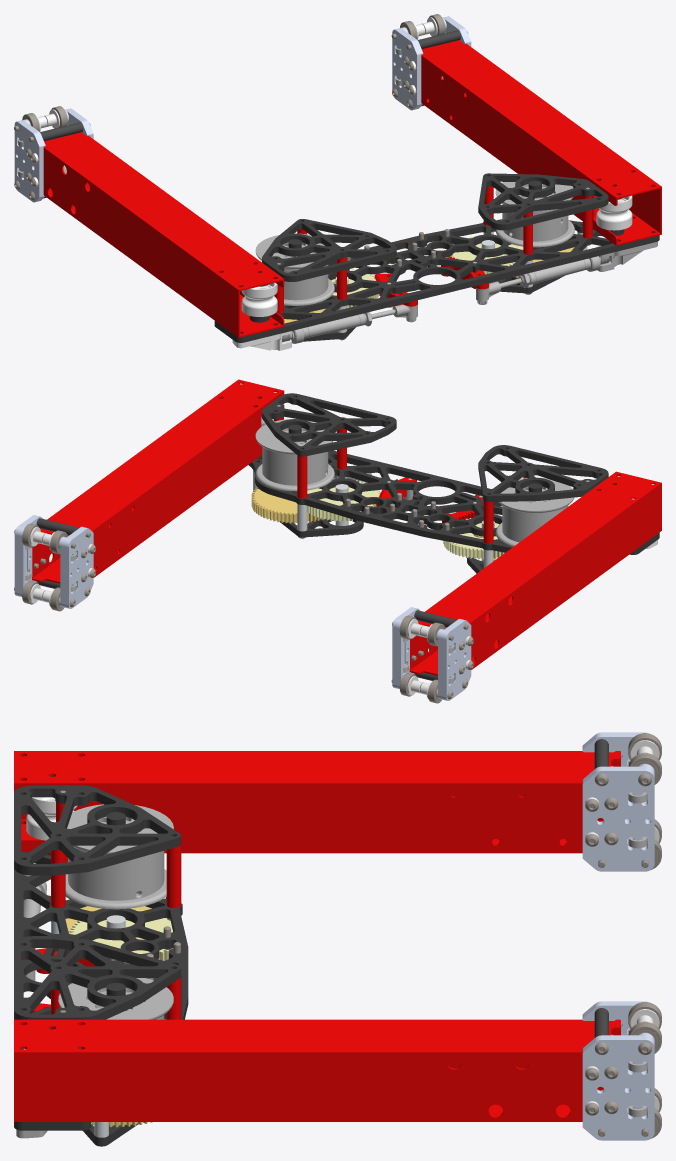
File: Snapback_Climber_Bottom_Stage.glb
The picture shows the model from 3 angles, top to bottom: view 1: azimuth 30°, elevation 25°; view 2: azimuth 150°, elevation 25°; view 3: azimuth 270°, elevation 25°; orthographic projection. The views are drawn at different scales.
Visible parts, largest first — view 1: NAUO82, NAUO98, NAUO8, NAUO26, NAUO25, NAUO88, NAUO104, NAUO81 (×2), NAUO80 (×2), NAUO31, NAUO30, NAUO92 (+3 smaller); view 2: NAUO82, NAUO98, NAUO8, NAUO104, NAUO88, NAUO25, NAUO26, NAUO80 (×2), NAUO81 (×2), NAUO10, NAUO32, NAUO17 (+1 smaller); view 3: NAUO98, NAUO82, NAUO88, NAUO104, NAUO26, NAUO8, NAUO25, NAUO80 (×2), NAUO81, NAUO18, NAUO65, NAUO92 (+1 smaller).
Part boxes in pixels (bbox=[...]): NAUO82: bbox=[43, 132, 284, 337]; NAUO98: bbox=[421, 40, 661, 245]; NAUO8: bbox=[214, 218, 659, 342]; NAUO26: bbox=[262, 219, 396, 281]; NAUO25: bbox=[478, 173, 608, 230]; NAUO88: bbox=[14, 106, 93, 202]; NAUO104: bbox=[391, 14, 471, 110]; NAUO81 (×2): bbox=[284, 214, 574, 305]; NAUO80 (×2): bbox=[255, 182, 573, 285]; NAUO31: bbox=[282, 309, 395, 343]; NAUO30: bbox=[500, 256, 609, 288]; NAUO92: bbox=[241, 282, 277, 316]; NAUO82: bbox=[409, 471, 661, 675]; NAUO98: bbox=[32, 379, 284, 583]; NAUO8: bbox=[248, 450, 659, 554]; NAUO104: bbox=[14, 515, 95, 611]; NAUO88: bbox=[391, 607, 473, 703]; NAUO25: bbox=[262, 393, 396, 456]; NAUO26: bbox=[478, 445, 608, 501]; NAUO80 (×2): bbox=[255, 419, 574, 529]; NAUO81 (×2): bbox=[255, 456, 536, 546]; NAUO10: bbox=[251, 487, 322, 523]; NAUO32: bbox=[279, 518, 363, 537]; NAUO17: bbox=[307, 479, 380, 521]; NAUO98: bbox=[14, 1019, 620, 1121]; NAUO82: bbox=[14, 751, 620, 853]; NAUO88: bbox=[582, 732, 661, 871]; NAUO104: bbox=[582, 1001, 661, 1140]; NAUO26: bbox=[14, 785, 180, 875]; NAUO8: bbox=[14, 823, 188, 1130]; NAUO25: bbox=[14, 936, 180, 1019]; NAUO80 (×2): bbox=[58, 804, 173, 1019]; NAUO81: bbox=[65, 860, 166, 909]; NAUO18: bbox=[69, 909, 172, 963]; NAUO65: bbox=[166, 844, 181, 907]; NAUO92: bbox=[26, 797, 77, 840].
Size of the model in its own units: 0.4892 by 0.1106 by 0.427.
